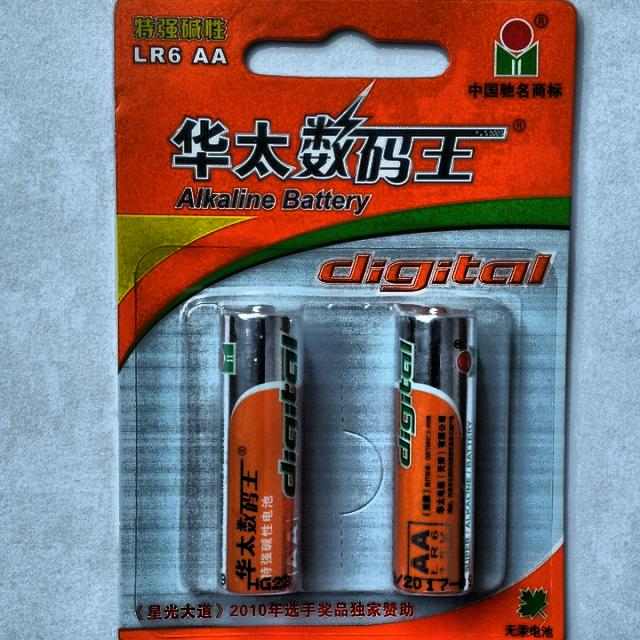Non-Valuable Waste - Batteries: (394, 306, 476, 594), (224, 306, 300, 593)
